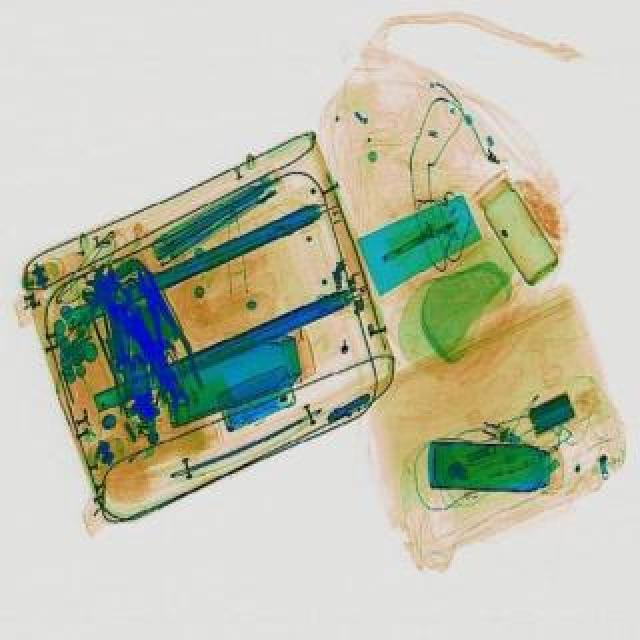scissors: (104, 286, 200, 414)
wrench: (124, 262, 208, 398)
